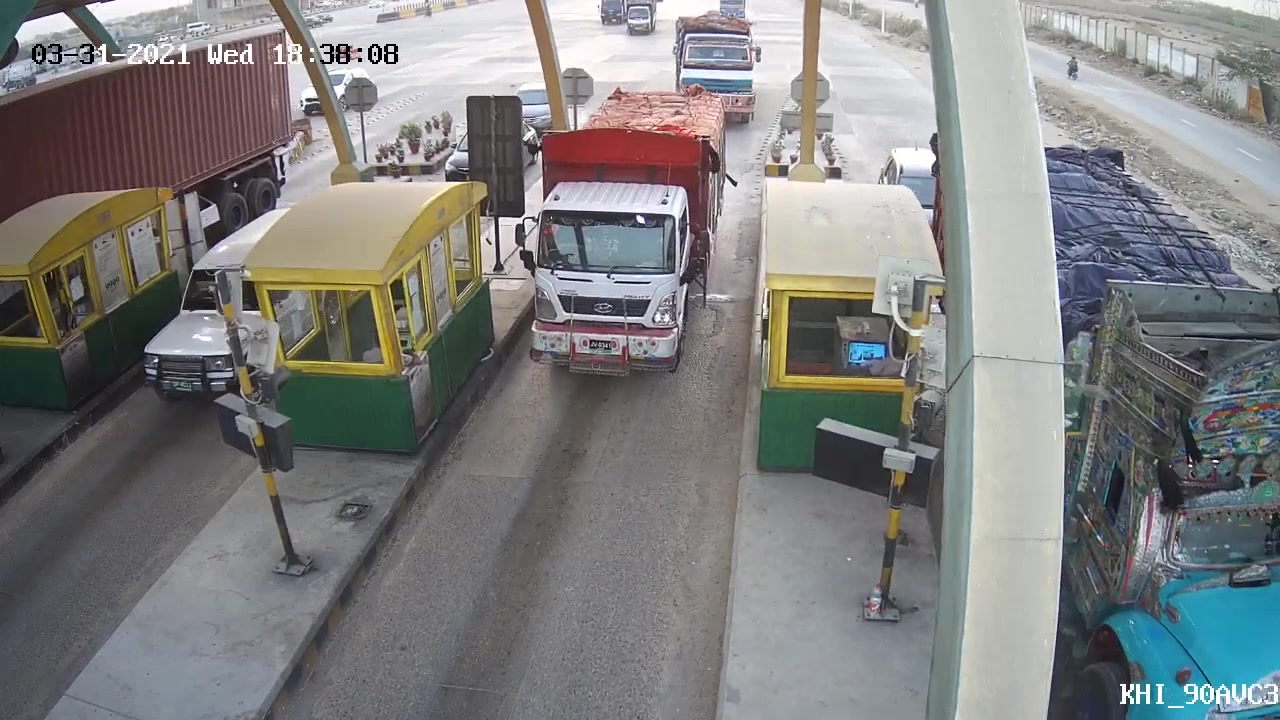F5: (514, 81, 733, 378)
